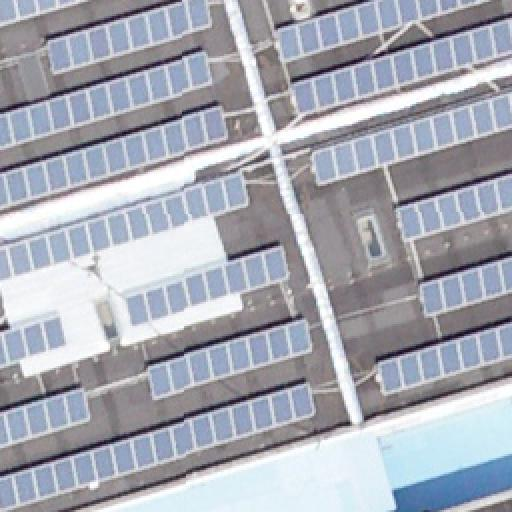solar-panel: (1, 379, 319, 509), (0, 172, 252, 280), (0, 104, 232, 212), (288, 17, 512, 119), (0, 50, 218, 154), (313, 89, 511, 183), (276, 0, 492, 64), (146, 316, 318, 396), (128, 245, 292, 323), (46, 0, 214, 76), (376, 316, 512, 392), (392, 170, 512, 242), (416, 252, 512, 316), (0, 385, 96, 447), (1, 312, 71, 364), (0, 0, 92, 28)
